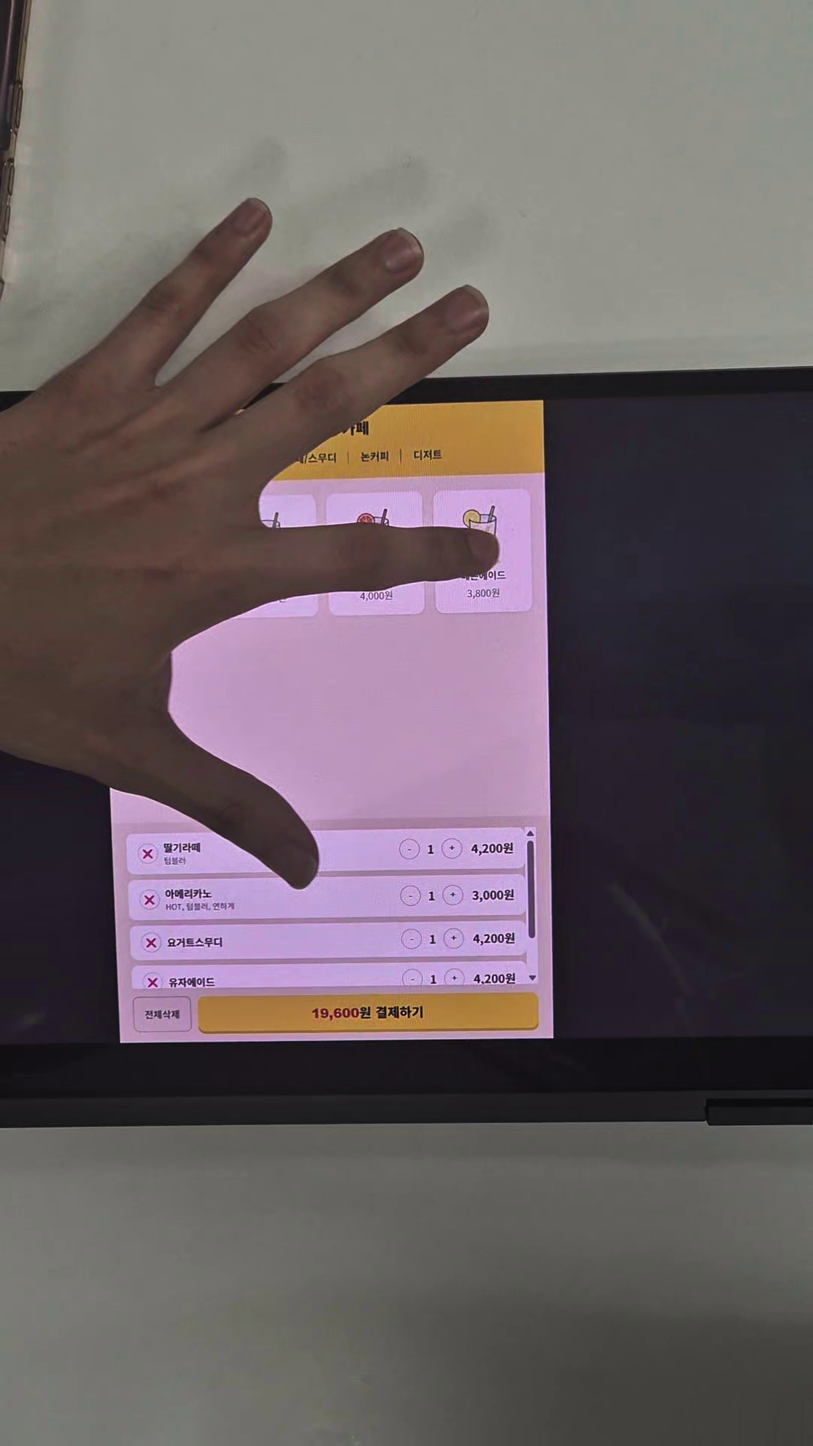action_button: (198, 991, 539, 1033), (133, 996, 191, 1032)
cart_item: (127, 827, 525, 875), (129, 874, 526, 920), (130, 920, 526, 961), (132, 961, 526, 990)
category_tab: (414, 449, 442, 461), (361, 451, 389, 462)
menu_back: (433, 488, 534, 614)
menu_price: (466, 587, 501, 599)
